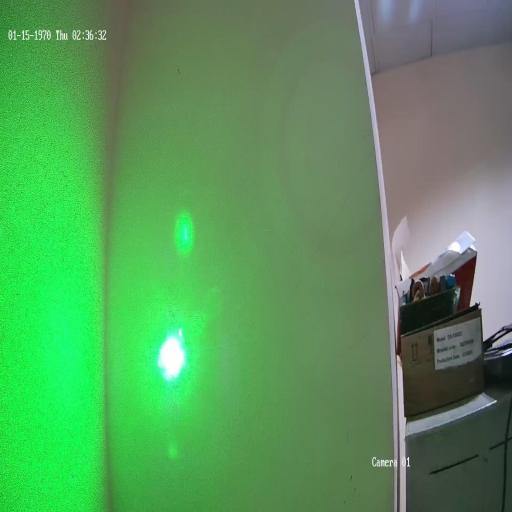laser: (152, 320, 193, 390)
